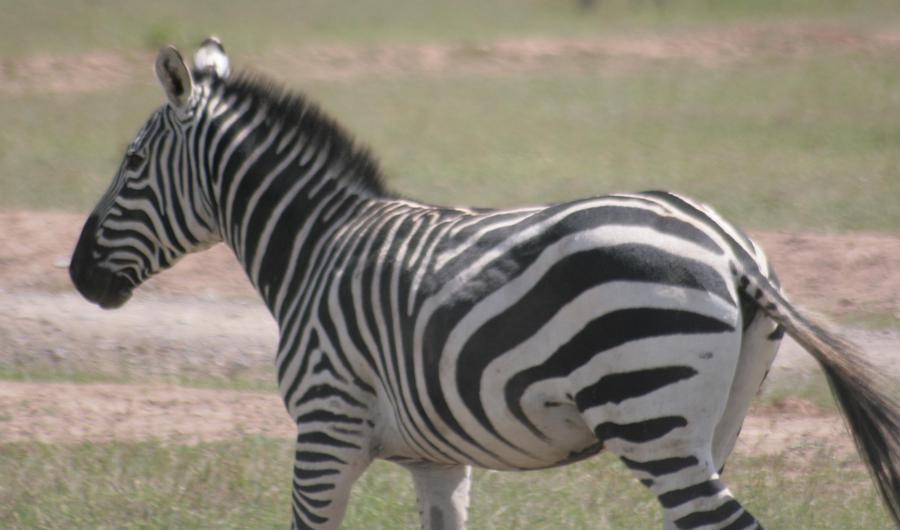zebra_plains: (283, 193, 717, 476)
